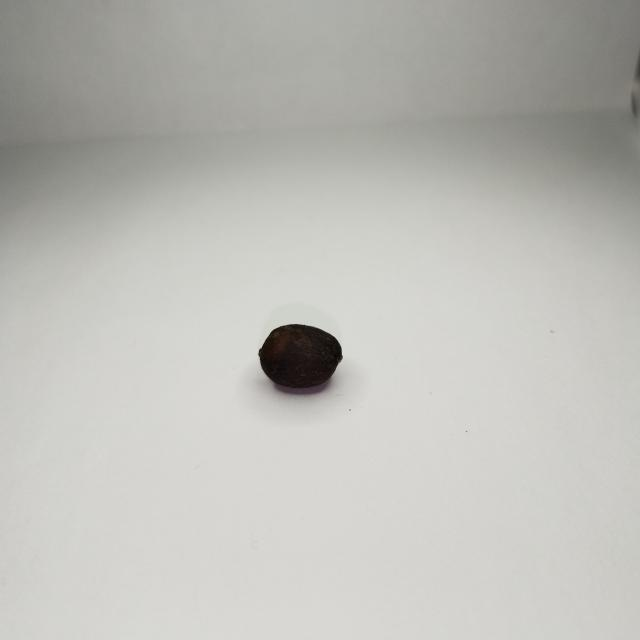Danado: (259, 324, 342, 391)
